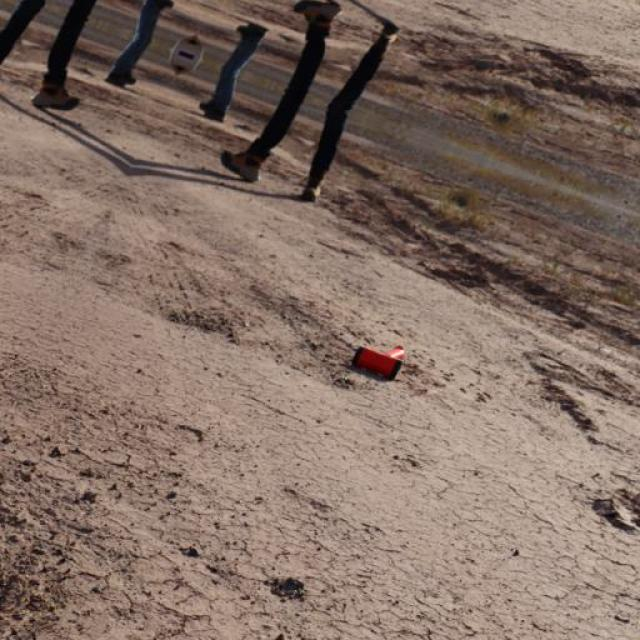mallet: (350, 342, 405, 380)
